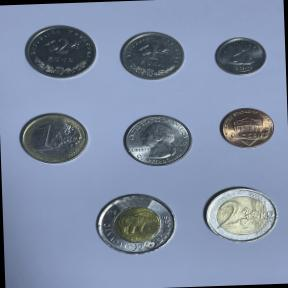coin: (90, 188, 180, 259), (199, 183, 283, 245), (20, 20, 101, 83), (118, 109, 198, 170), (14, 109, 92, 167), (211, 31, 270, 78), (216, 105, 276, 151)
